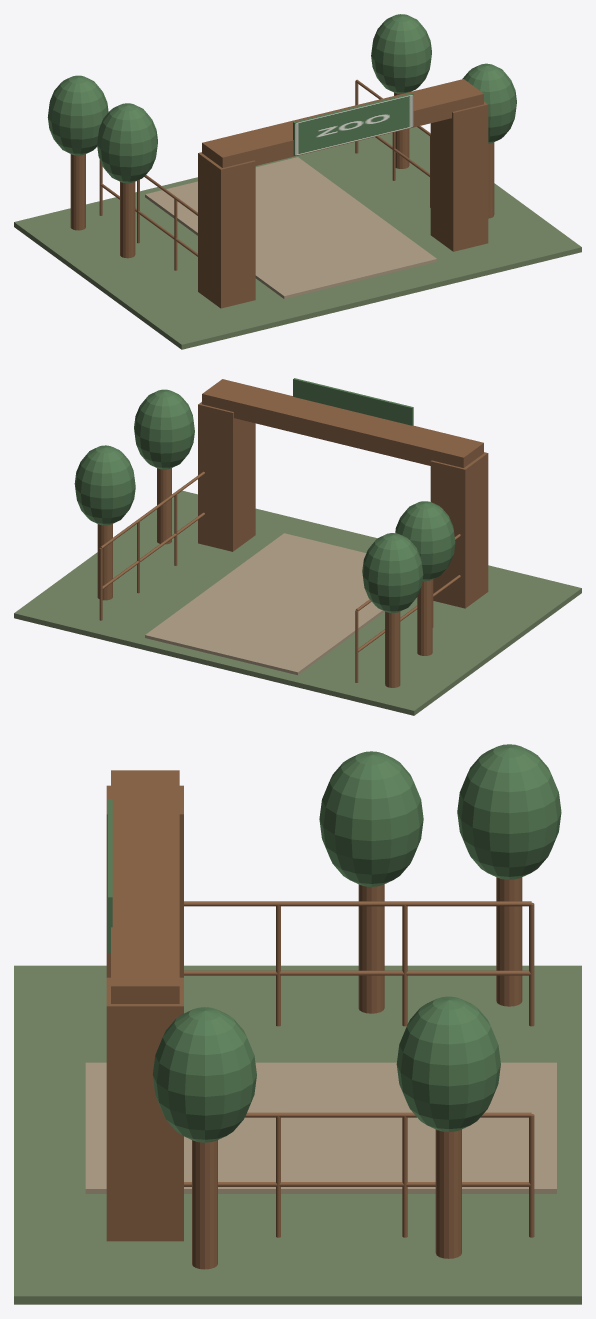
Rendered from scendance-plan-zoo.glb.
3 views of the same model, one above another, from view 1: azimuth 30°, elevation 25°; view 2: azimuth 150°, elevation 25°; view 3: azimuth 270°, elevation 25° (orthographic). The views are drawn at different scales.
Bounding box in the file's own units: 8.4 × 3.45 × 6.1.
Materials: 5 (1 with a texture image).
